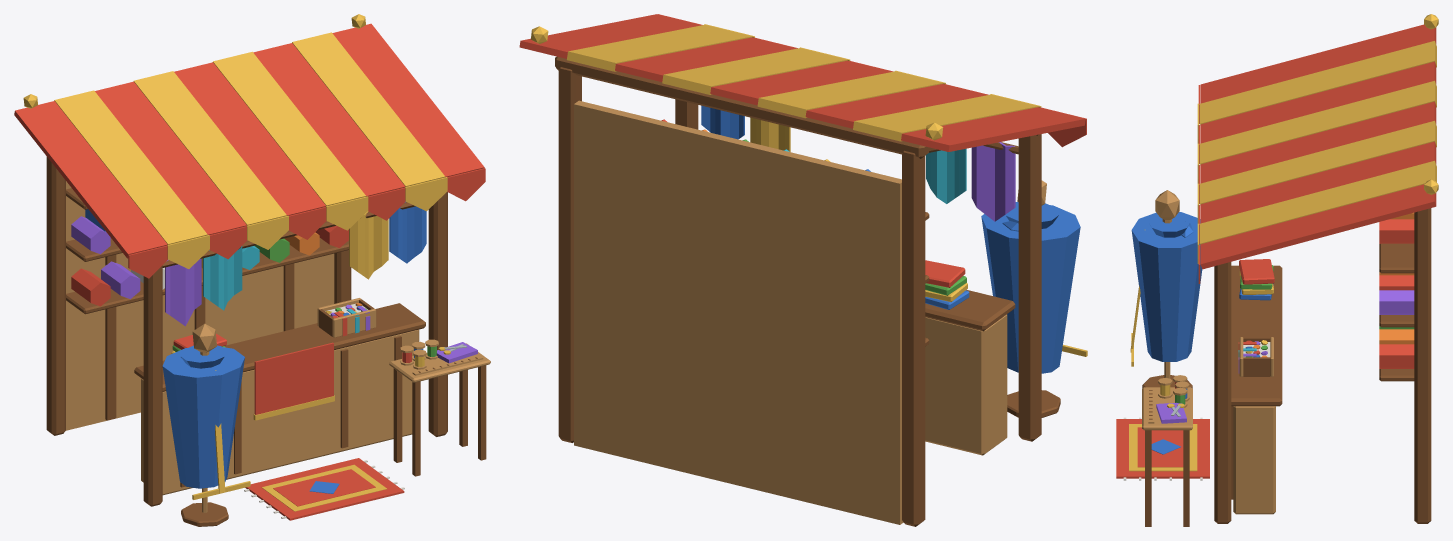
File: cloth-merchant-stall.glb
3 views of the same model, side by side, from view 1: azimuth 30°, elevation 25°; view 2: azimuth 150°, elevation 25°; view 3: azimuth 270°, elevation 25° (orthographic). The views are drawn at different scales.
Parts seen in each view (by area): view 1: Awning, BackWall, Counter, Cloak, Awning_Stripe_1, Awning_Stripe_2, Awning_Stripe_3, Awning_Stripe_0, Post_Back_L, Post_Front_L, CounterCloth, CounterTop (+36 smaller); view 2: BackWall, Awning, Counter, Post_Back_L, Cloak, Post_Front_L, Post_Back_R, Beam_Back, Awning_Stripe_2, Awning_Stripe_3, Awning_Stripe_1, Awning_Stripe_0 (+7 smaller); view 3: Awning, Cloak, Post_Back_R, Awning_Stripe_1, Awning_Stripe_0, Awning_Stripe_2, Awning_Stripe_3, CounterTop, Counter, Post_Front_R, Rug, Rug_Centre (+17 smaller).
Boxes of the visible parts, x1,y1,x2,y2 form: Awning: (14, 23, 484, 258); BackWall: (65, 181, 334, 430); Counter: (141, 329, 419, 495); Cloak: (162, 347, 244, 488); Awning_Stripe_1: (133, 71, 286, 225); Awning_Stripe_2: (213, 51, 365, 206); Awning_Stripe_3: (292, 32, 445, 186); Awning_Stripe_0: (54, 90, 207, 244); Post_Back_L: (46, 156, 65, 435); Post_Front_L: (143, 265, 162, 506); CounterCloth: (254, 342, 333, 414); CounterTop: (134, 303, 425, 391); BackWall: (574, 100, 903, 524); Awning: (519, 14, 1085, 151); Counter: (925, 314, 1007, 455); Post_Back_L: (902, 150, 925, 526); Cloak: (981, 205, 1080, 373); Post_Front_L: (1018, 134, 1041, 441); Post_Back_R: (558, 67, 581, 442); Beam_Back: (555, 56, 928, 158); Awning_Stripe_2: (662, 48, 847, 94); Awning_Stripe_3: (567, 24, 752, 71); Awning_Stripe_1: (757, 71, 942, 118); Awning_Stripe_0: (853, 94, 1038, 141); Awning: (1200, 24, 1436, 269); Cloak: (1131, 212, 1202, 361); Post_Back_R: (1414, 208, 1431, 523); Awning_Stripe_1: (1200, 80, 1436, 164); Awning_Stripe_0: (1200, 41, 1436, 124); Awning_Stripe_2: (1200, 120, 1436, 204); Awning_Stripe_3: (1200, 160, 1436, 244); CounterTop: (1231, 265, 1282, 406); Counter: (1233, 406, 1275, 514); Post_Front_R: (1214, 262, 1231, 523); Rug: (1116, 419, 1209, 478); Rug_Centre: (1137, 427, 1183, 467).
Size of the model in its own units: 10 by 9.15 by 7.57.
